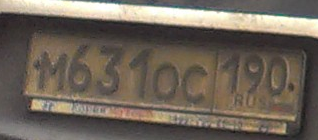character: (96, 42, 124, 97), (68, 41, 93, 97), (129, 44, 152, 104), (37, 47, 66, 93), (180, 61, 208, 108), (154, 59, 181, 105), (221, 49, 243, 96), (267, 51, 288, 100), (245, 50, 266, 98)
